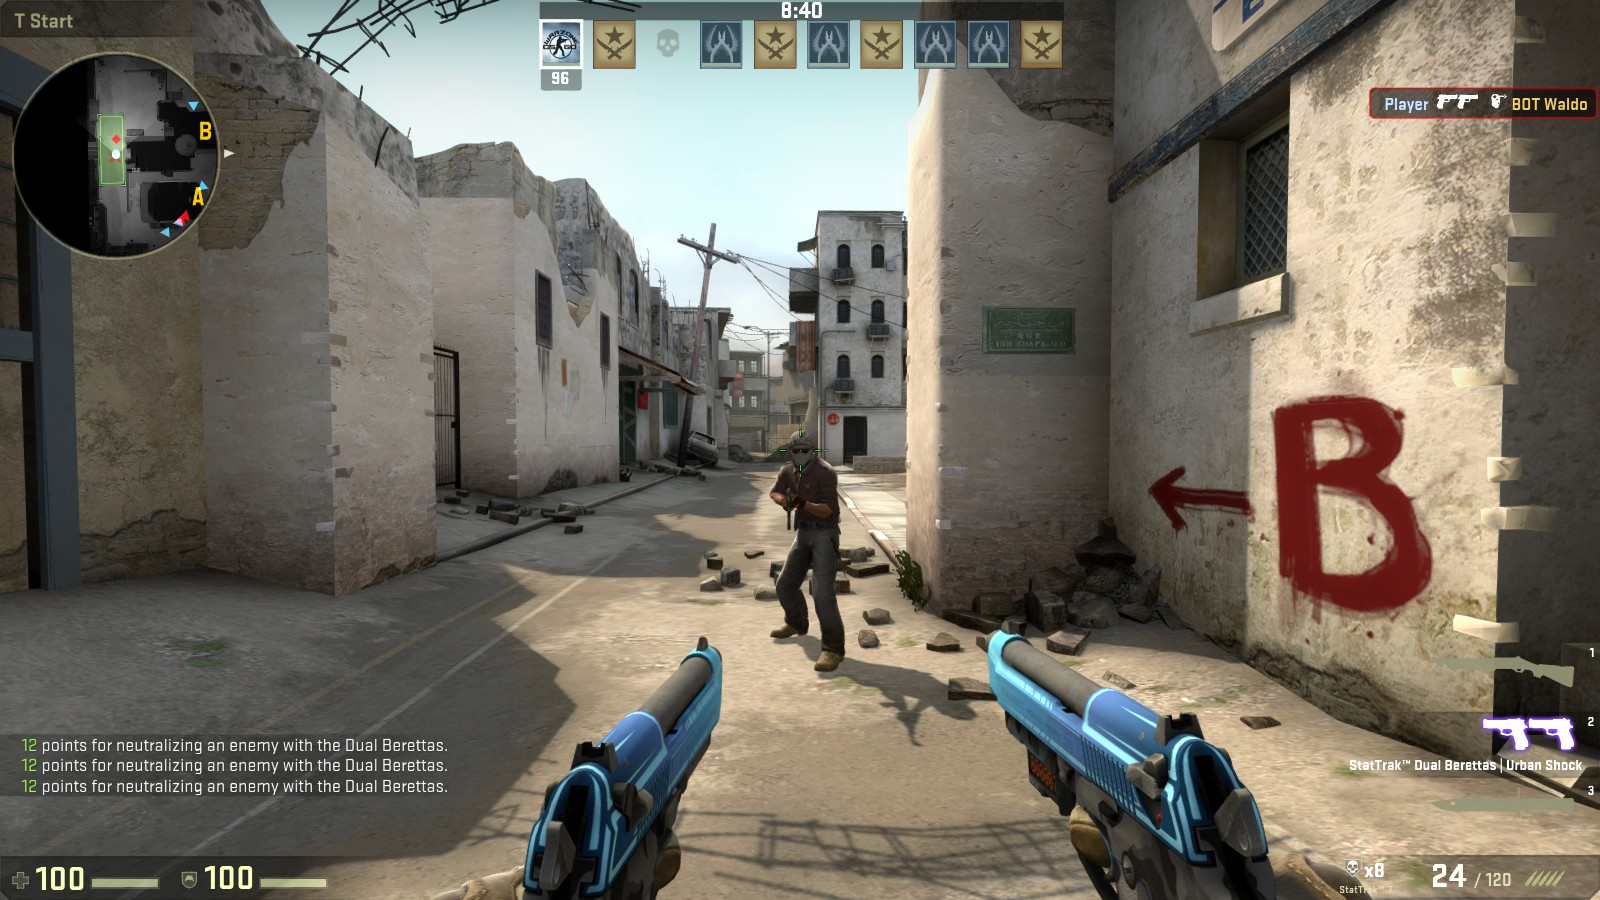t: (768, 431, 848, 673)
th: (779, 427, 823, 475)
